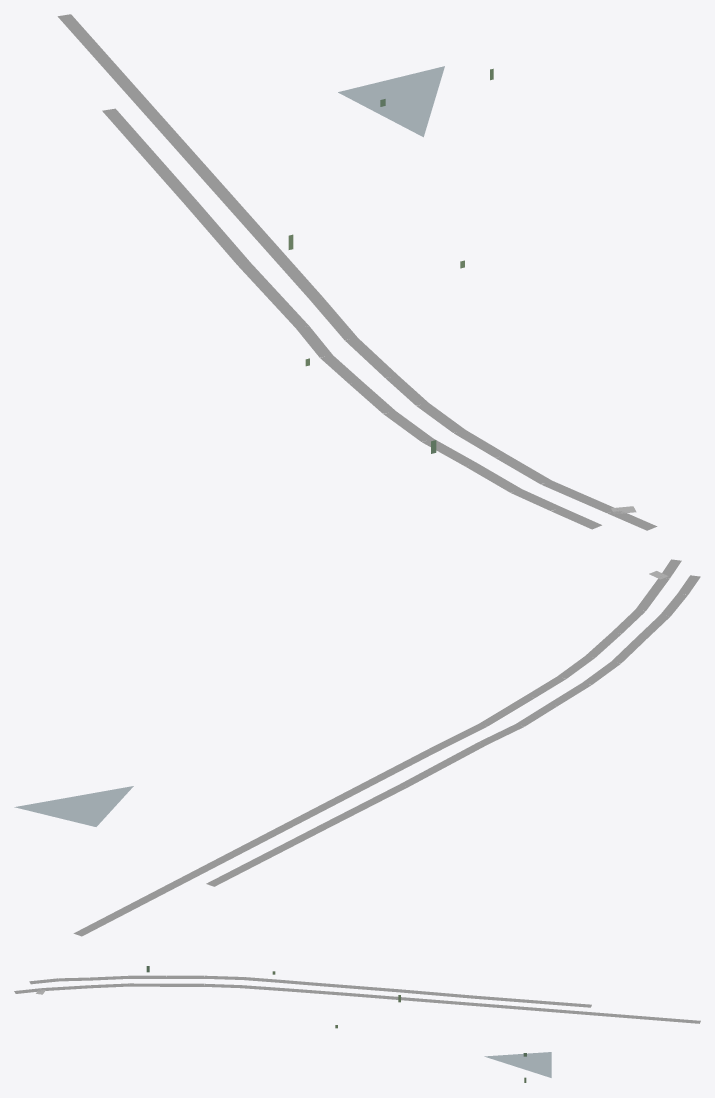
The picture shows the model from 3 angles, top to bottom: view 1: azimuth 30°, elevation 25°; view 2: azimuth 150°, elevation 25°; view 3: azimuth 270°, elevation 25°; orthographic projection. The views are drawn at different scales.
Size of the model in its own units: 242 by 12.28 by 656.
